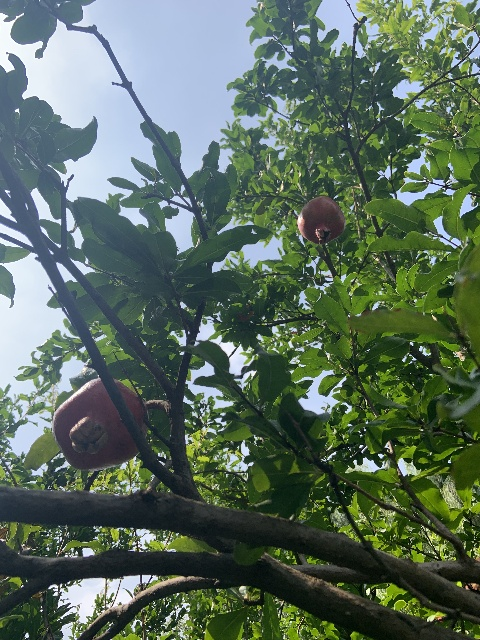ripe: (53, 376, 147, 470), (297, 196, 345, 244)
